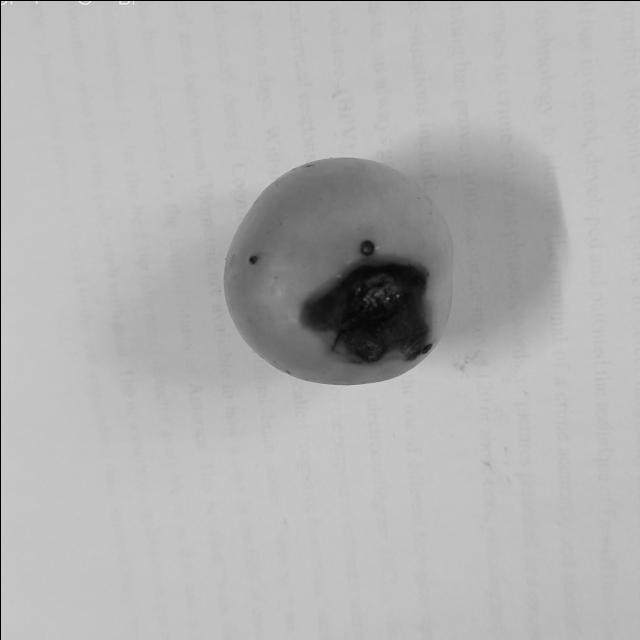Anthrocnose: (296, 239, 436, 371)
